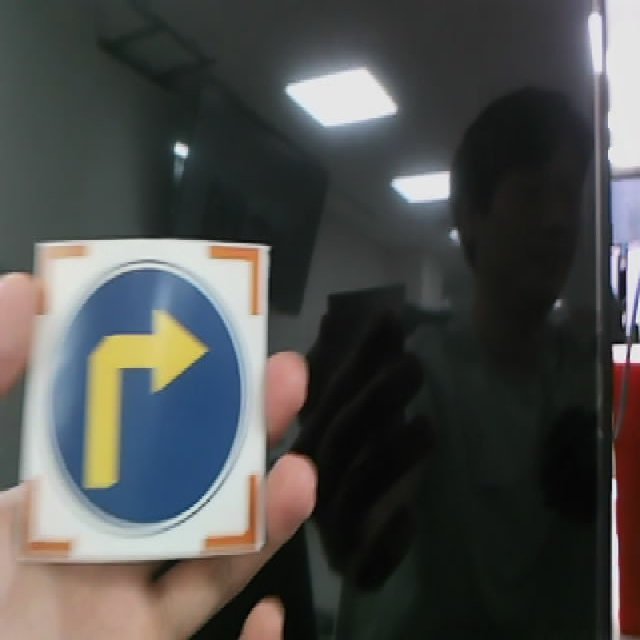right: (11, 241, 268, 563)
